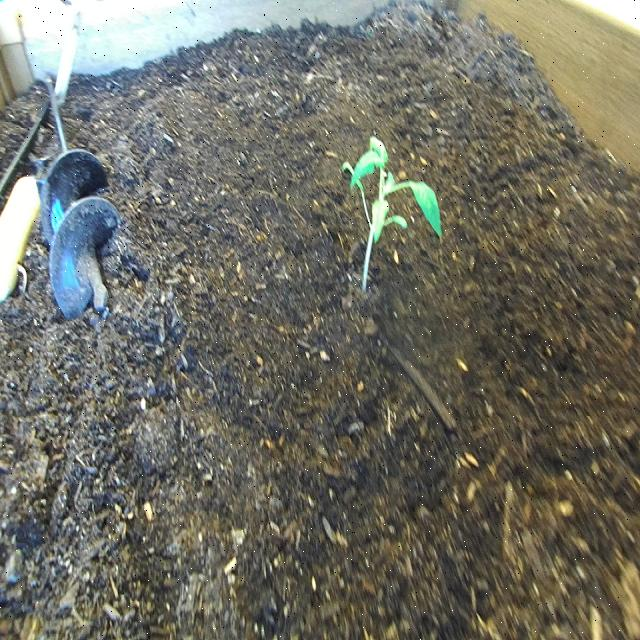Healthy: (332, 121, 448, 309)
